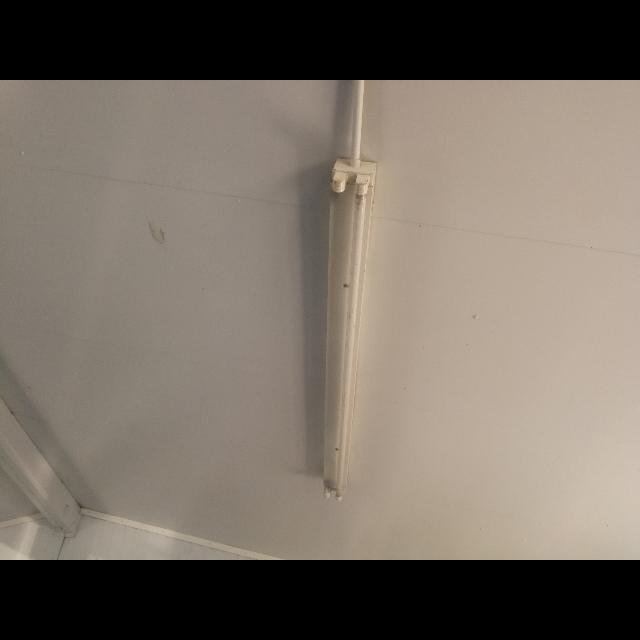Straight-Tube-Fluorescent-Lamp: (314, 150, 382, 504)
